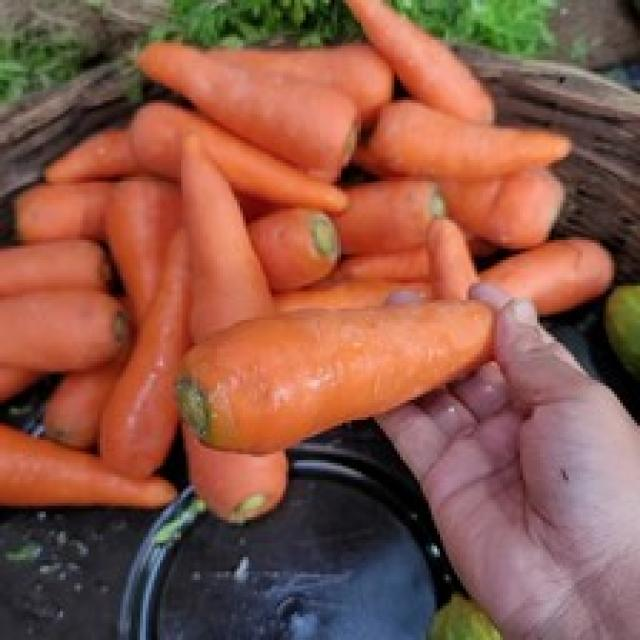Fresh_Carrot: (131, 17, 640, 243), (70, 128, 384, 246), (179, 311, 482, 418)
